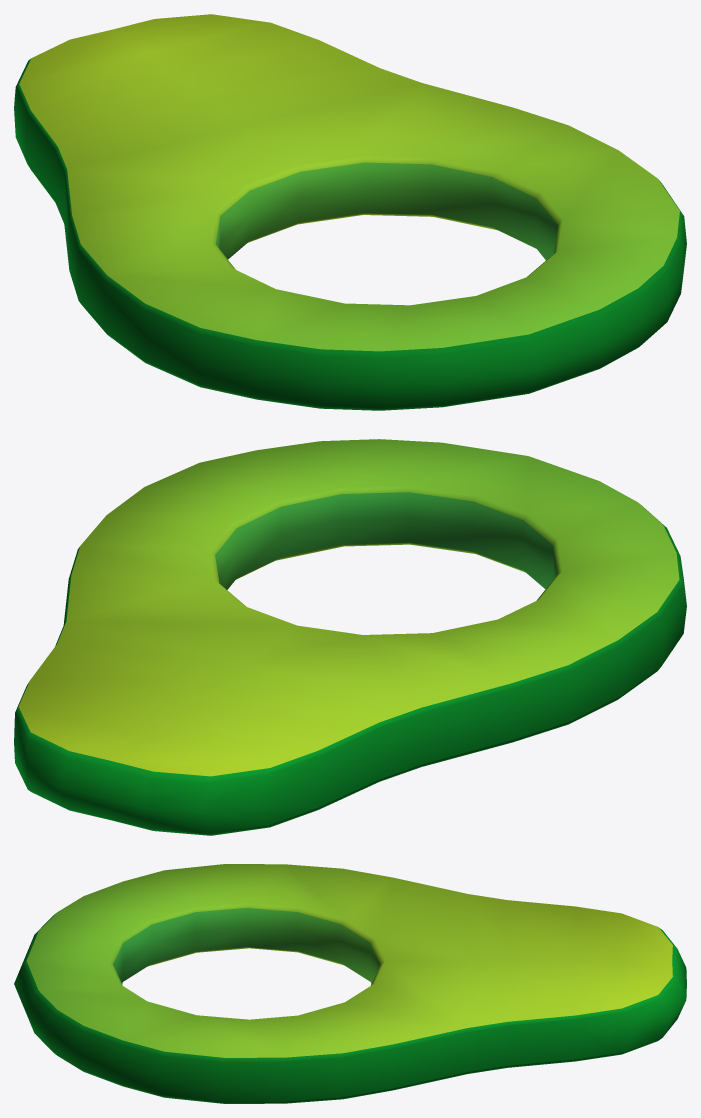
Rendered from Avocado_slice.fbx.
3 renders of one model, top to bottom at view 1: azimuth 30°, elevation 25°; view 2: azimuth 150°, elevation 25°; view 3: azimuth 270°, elevation 25°, orthographic. The views are drawn at different scales.
Visible parts, largest first — view 1: Avocado_slice; view 2: Avocado_slice; view 3: Avocado_slice.
Part boxes in pixels (x1=…): Avocado_slice: x1=14, y1=14, x2=686, y2=410; Avocado_slice: x1=14, y1=439, x2=686, y2=835; Avocado_slice: x1=14, y1=864, x2=686, y2=1103.
Size of the model in its own units: 80 by 116 by 8.76.
